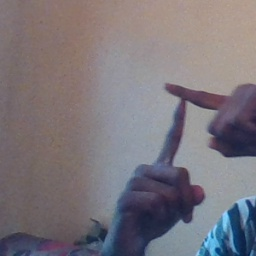T: (135, 74, 239, 186)
